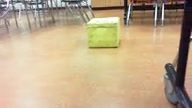cube: (87, 17, 120, 48)
